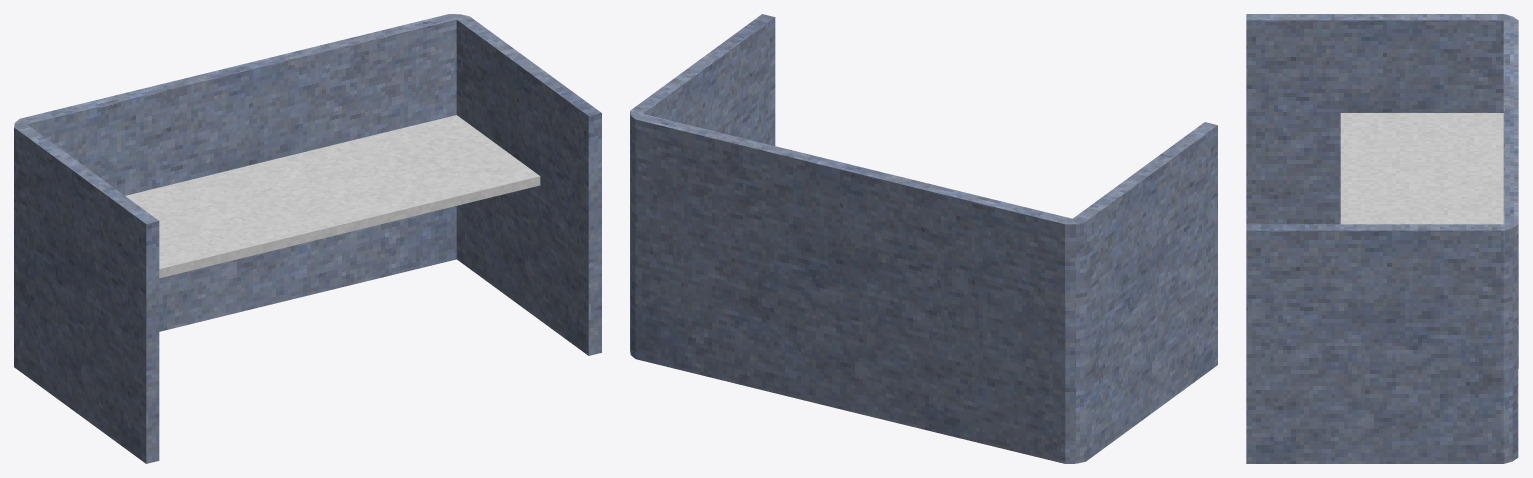
Rendered from divider_full_c_desk_blue.glb.
3 renders of one model, left to right at view 1: azimuth 30°, elevation 25°; view 2: azimuth 150°, elevation 25°; view 3: azimuth 270°, elevation 25°, orthographic. The views are drawn at different scales.
Parts seen in each view (by area): view 1: divider_full_c_desk_blue; view 2: divider_full_c_desk_blue; view 3: divider_full_c_desk_blue.
Part boxes in pixels (box(x1,y1,x2,y2)): divider_full_c_desk_blue: box(14, 14, 601, 463); divider_full_c_desk_blue: box(630, 14, 1217, 463); divider_full_c_desk_blue: box(1246, 14, 1518, 463).
Size of the model in its own units: 2.99 by 1.5 by 1.59.
Materials: 1 (1 with a texture image).
